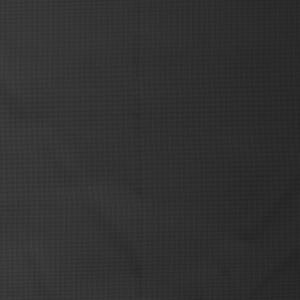Wrinkle: (1, 78, 150, 300), (212, 165, 300, 300)
